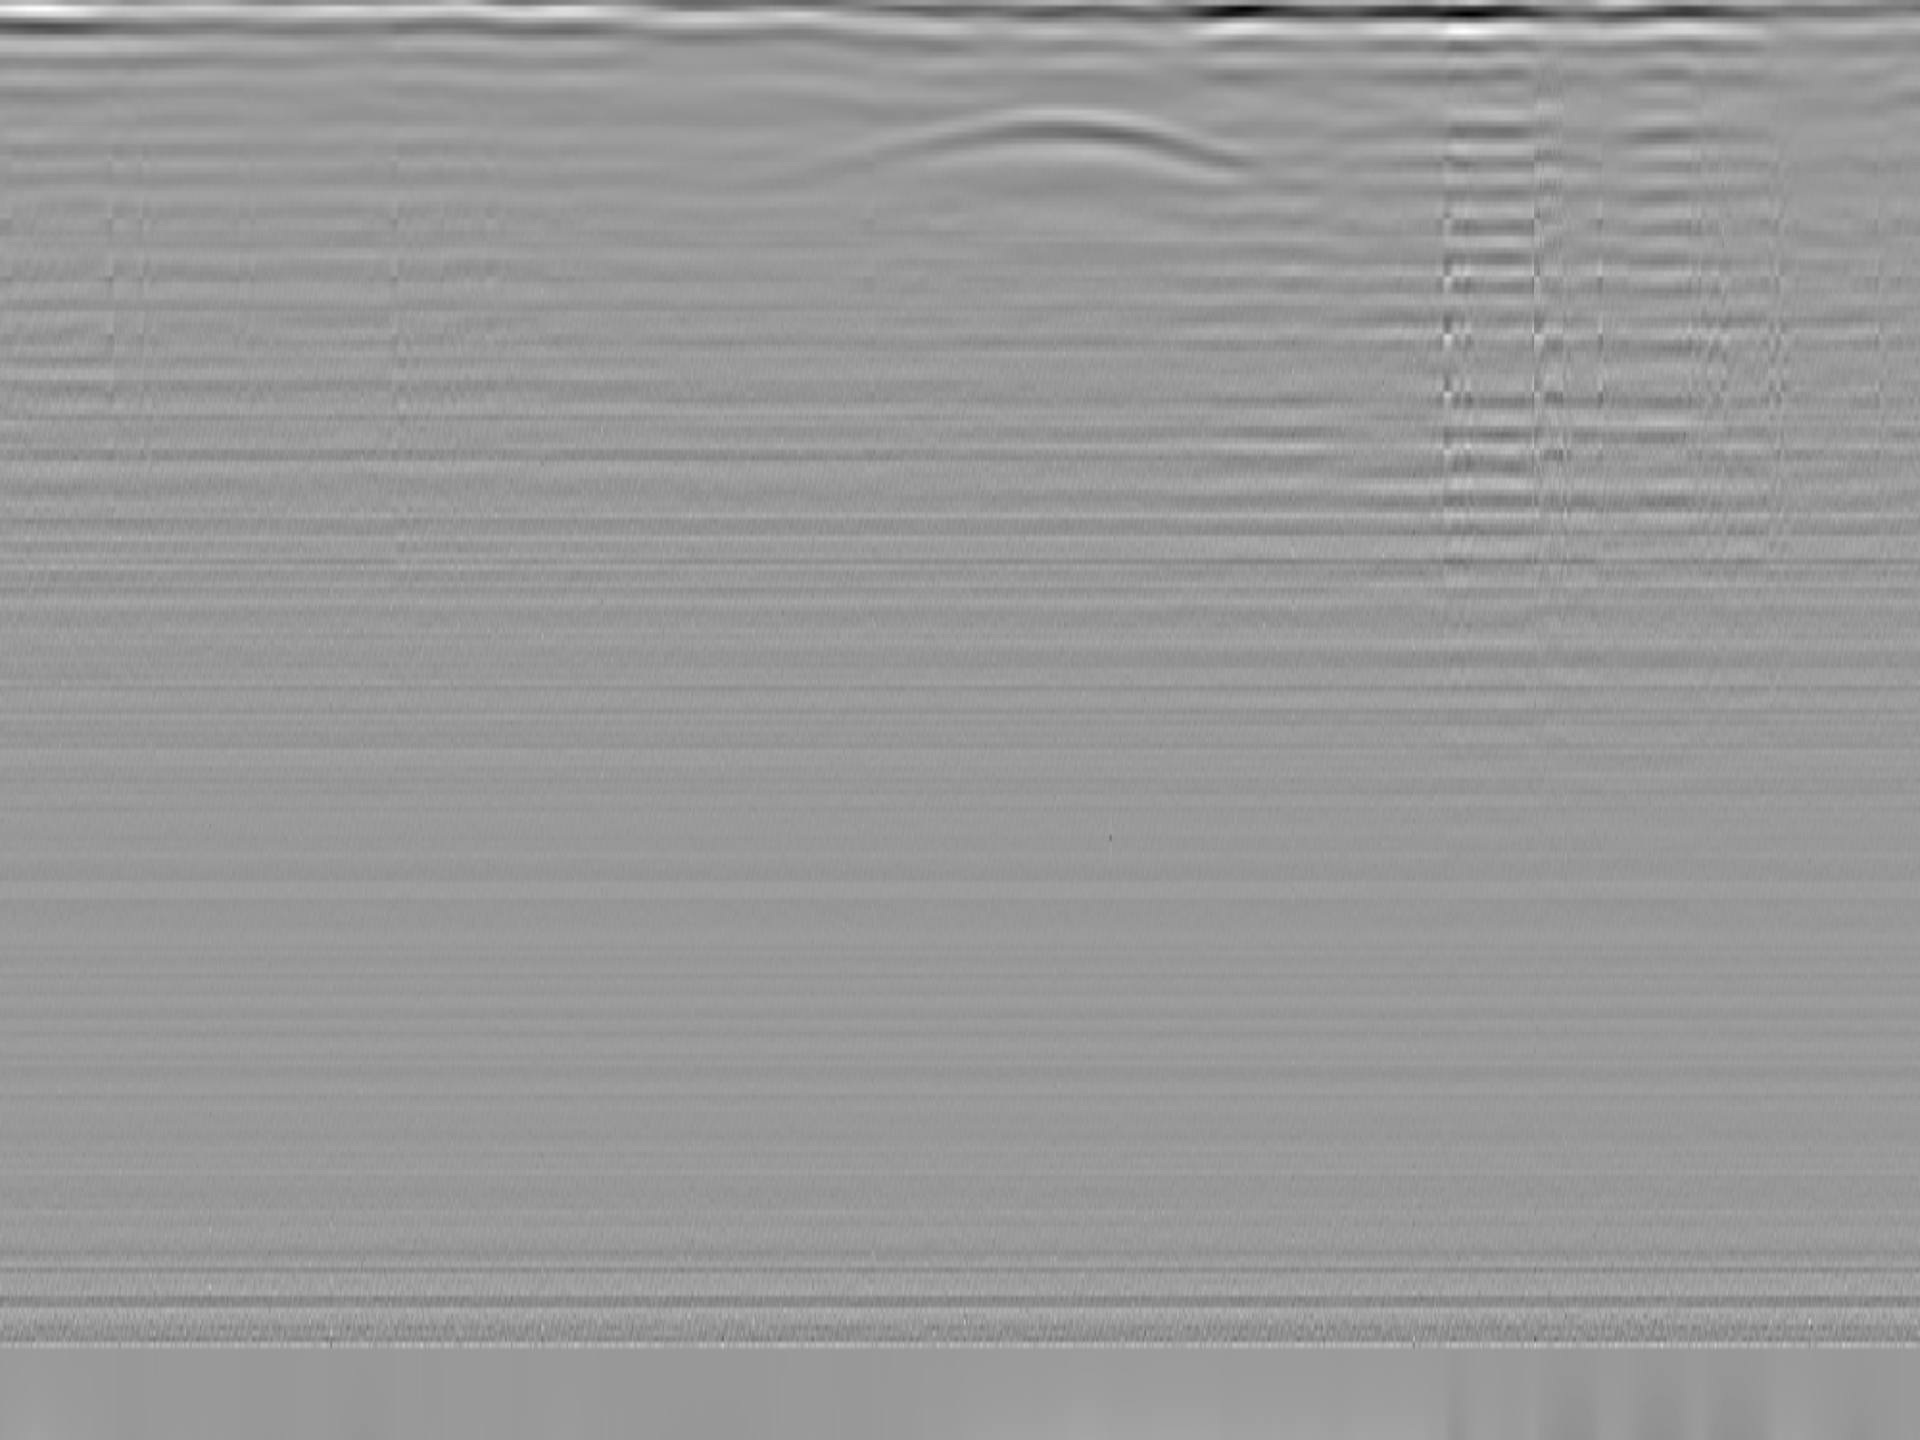Tunnel: (753, 106, 1299, 182)
